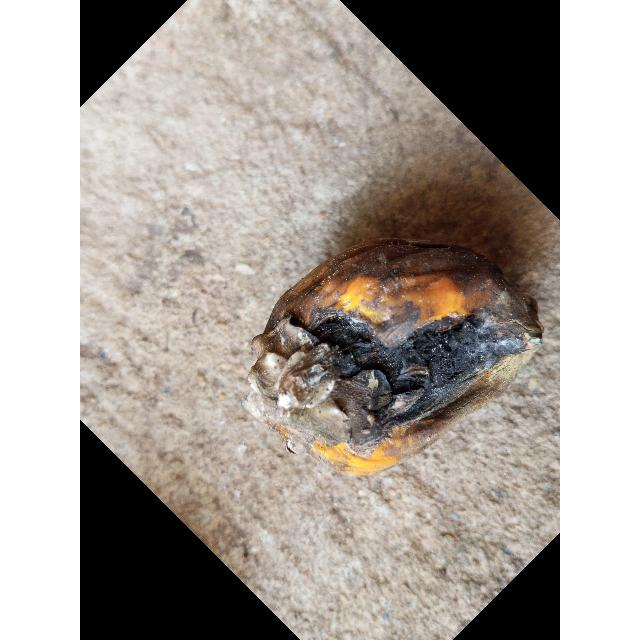damaged: (251, 241, 533, 459)
